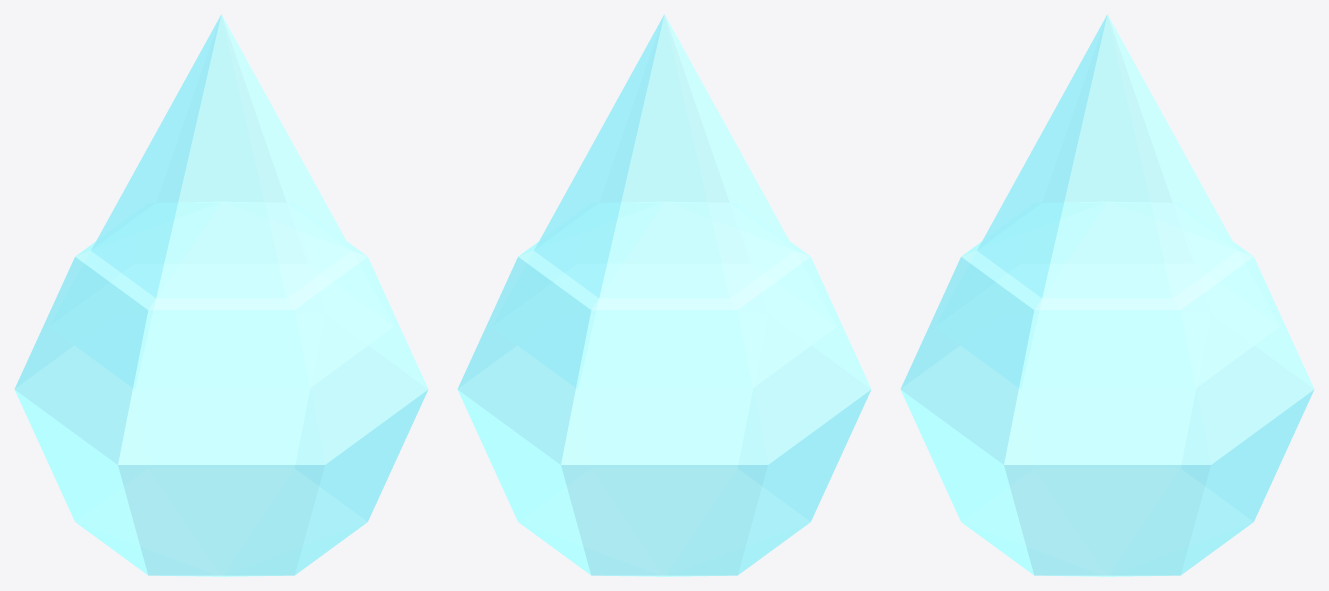
File: splash_droplet.glb
3 views of the same model, side by side, from view 1: azimuth 30°, elevation 25°; view 2: azimuth 150°, elevation 25°; view 3: azimuth 270°, elevation 25° (orthographic).
Parts seen in each view (by area): view 1: splash_droplet; view 2: splash_droplet; view 3: splash_droplet.
Boxes of the visible parts, left/top/right/bottom form: splash_droplet: left=14, top=14, right=428, bottom=576; splash_droplet: left=457, top=14, right=871, bottom=576; splash_droplet: left=900, top=14, right=1314, bottom=576.
Bounding box in the file's own units: 0.0312 × 0.054 × 0.036.
